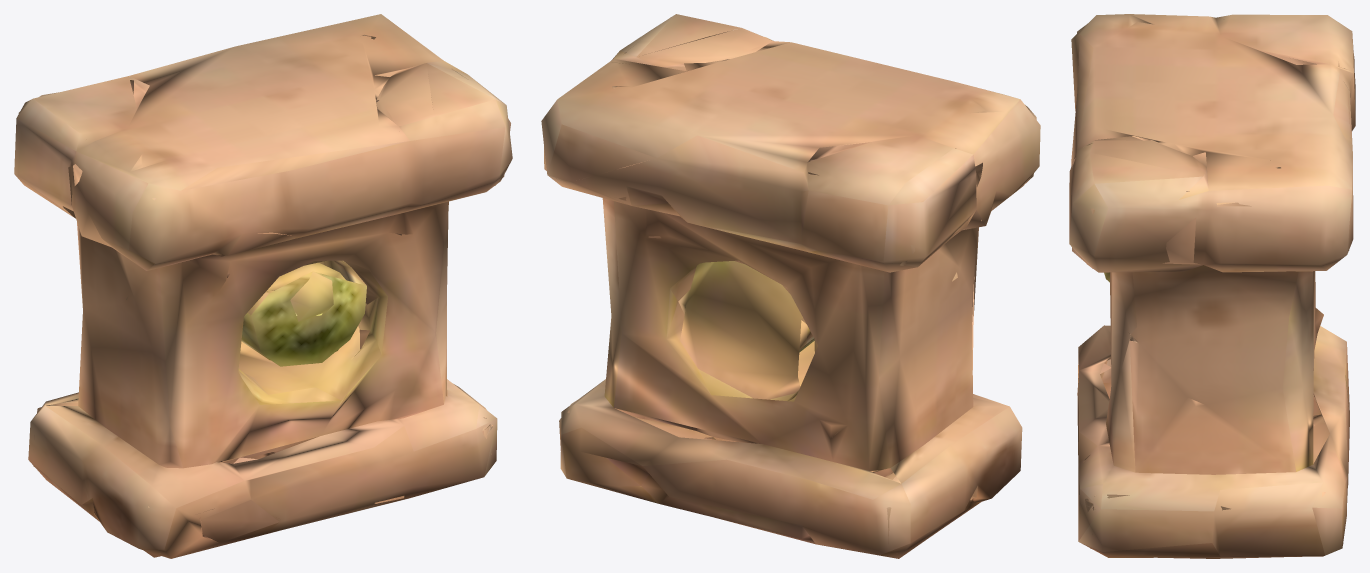
File: lg-moon-altar.glb
The picture shows the model from 3 angles, left to right: view 1: azimuth 30°, elevation 25°; view 2: azimuth 150°, elevation 25°; view 3: azimuth 270°, elevation 25°; orthographic projection.
Parts seen in each view (by area): view 1: geometry_0; view 2: geometry_0; view 3: geometry_0.
Boxes of the visible parts, left/top/right/bottom form: geometry_0: left=14, top=14, right=512, bottom=558; geometry_0: left=541, top=14, right=1040, bottom=558; geometry_0: left=1069, top=14, right=1355, bottom=558.
Size of the model in its own units: 1 by 0.9604 by 0.6461.
Materials: 1 (1 with a texture image).
